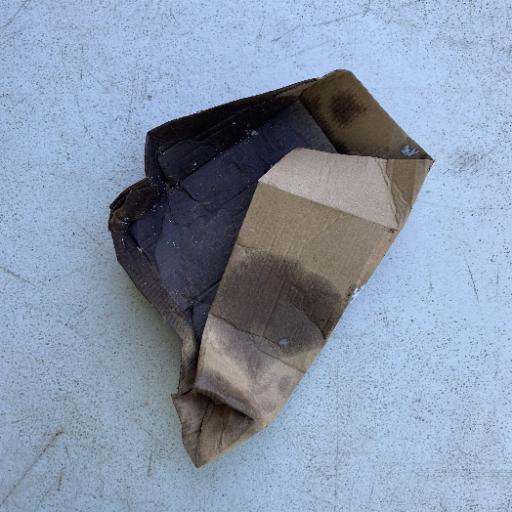Cardboard: (106, 66, 436, 468)
